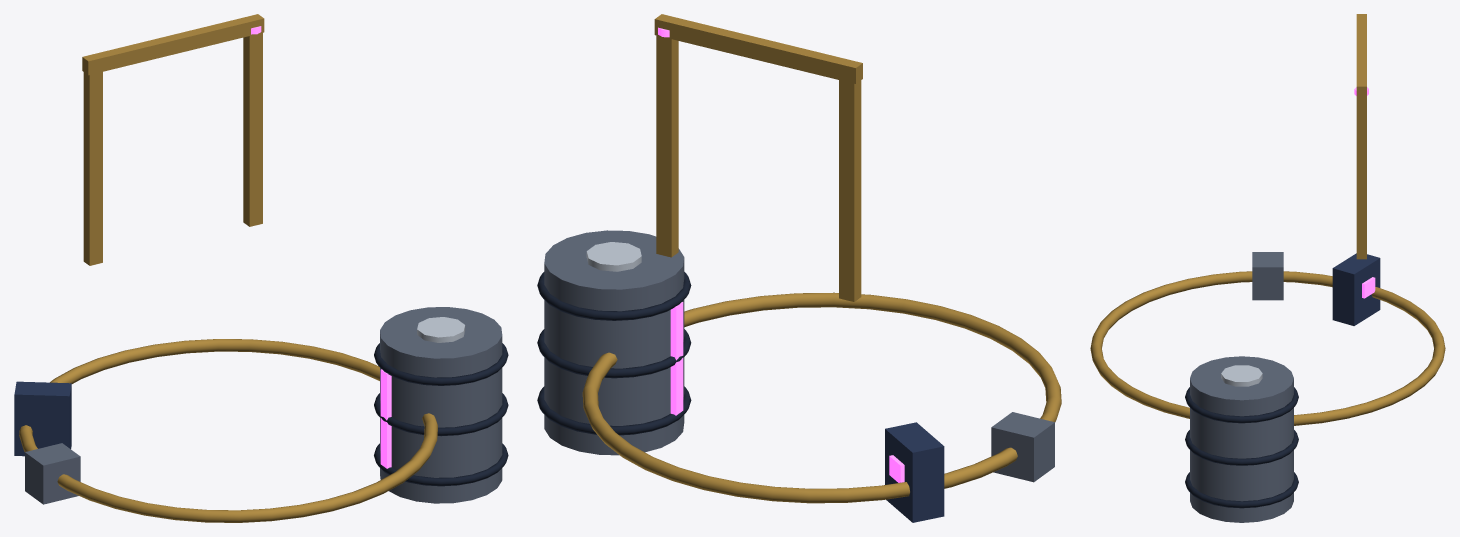
File: tower_arc_rate_s5.glb
3 renders of one model, left to right at view 1: azimuth 30°, elevation 25°; view 2: azimuth 150°, elevation 25°; view 3: azimuth 270°, elevation 25°, orthographic. The views are drawn at different scales.
Visible parts, largest first — view 1: arc_supercap, arc_coolant_loop, arc_bus_bar_r, arc_bus_bar_l, arc_bus_bridge, arc_meter_box, arc_coolant_pump, arc_supercap_rib0.18, arc_supercap_rib0, arc_supercap_rib-0.18, arc_supercap_gauge, arc_supercap_cap; view 2: arc_supercap, arc_coolant_loop, arc_bus_bar_r, arc_bus_bar_l, arc_bus_bridge, arc_meter_box, arc_coolant_pump, arc_supercap_rib0.18, arc_supercap_rib0, arc_supercap_rib-0.18, arc_supercap_gauge, arc_supercap_cap; view 3: arc_supercap, arc_coolant_loop, arc_meter_box, arc_bus_bar_l, arc_coolant_pump, arc_supercap_rib0, arc_supercap_rib-0.18, arc_supercap_rib0.18, arc_bus_bridge, arc_supercap_cap.
Boxes of the visible parts, x1,y1,x2,y2 form: arc_supercap: (380,307,502,503); arc_coolant_loop: (19,339,437,522); arc_bus_bar_r: (83,67,102,265); arc_bus_bar_l: (243,33,262,226); arc_bus_bridge: (82,14,264,75); arc_meter_box: (14,381,71,456); arc_coolant_pump: (25,443,80,504); arc_supercap_rib0.18: (374,343,508,385); arc_supercap_rib0: (374,393,508,436); arc_supercap_rib-0.18: (374,443,508,486); arc_supercap_gauge: (380,369,391,468); arc_supercap_cap: (417,317,465,342); arc_supercap: (544,230,684,455); arc_coolant_loop: (582,292,1061,503); arc_bus_bar_r: (839,75,861,301); arc_bus_bar_l: (656,30,678,257); arc_bus_bridge: (654,14,862,83); arc_meter_box: (885,422,944,522); arc_coolant_pump: (991,412,1054,482); arc_supercap_rib0.18: (537,272,691,320); arc_supercap_rib0: (537,329,691,378); arc_supercap_rib-0.18: (537,386,691,435); arc_supercap_gauge: (670,302,683,415); arc_supercap_cap: (586,242,641,271); arc_supercap: (1190,356,1293,522); arc_coolant_loop: (1090,271,1445,425); arc_meter_box: (1332,253,1380,325); arc_bus_bar_l: (1356,98,1366,259); arc_coolant_pump: (1252,252,1283,300); arc_supercap_rib0: (1185,430,1298,465); arc_supercap_rib-0.18: (1185,472,1298,508); arc_supercap_rib0.18: (1185,387,1298,423); arc_bus_bridge: (1356,14,1366,98); arc_supercap_cap: (1221,365,1262,386).
Size of the model in its own units: 1.69 by 1.59 by 1.36.
